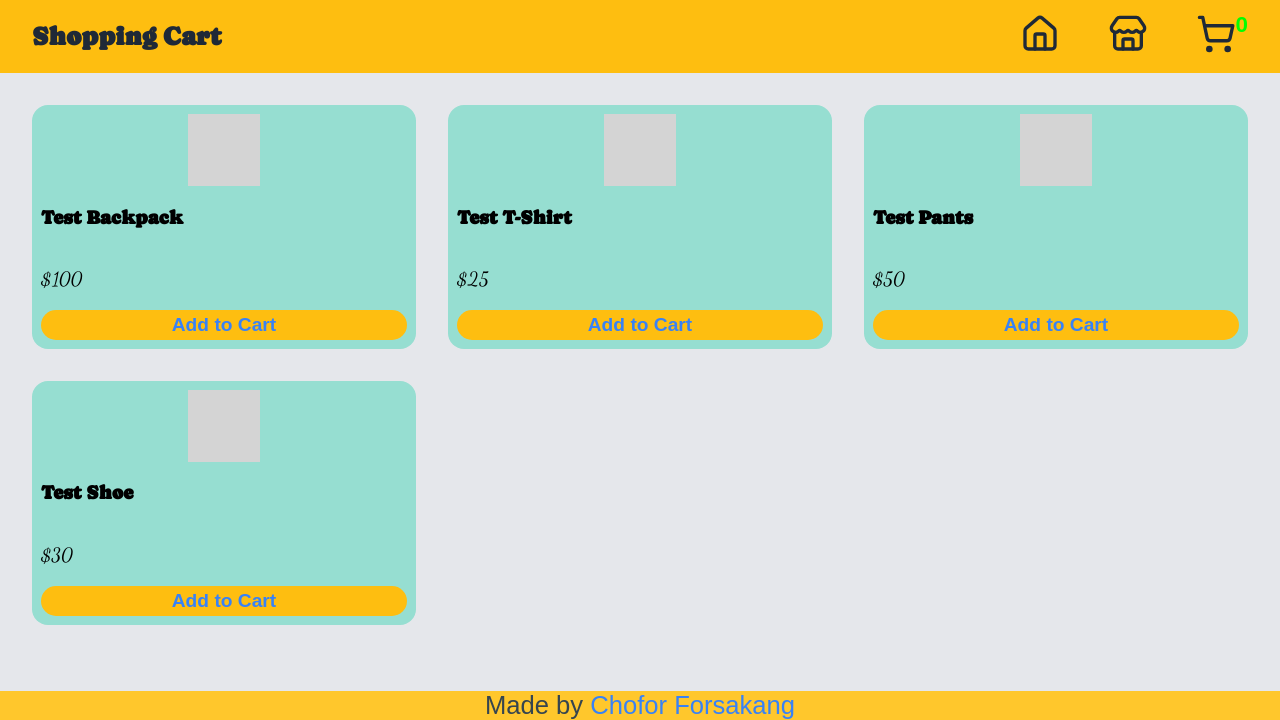
Scenario: Testing Shop page › increaseOrders: should increment cart total when add button is clicked
What coordinates should you click on to do the following:
click the button with aria-label "add test backpack to cart"
I would click on:
 (224, 325)
Its box is [41, 310, 407, 340].
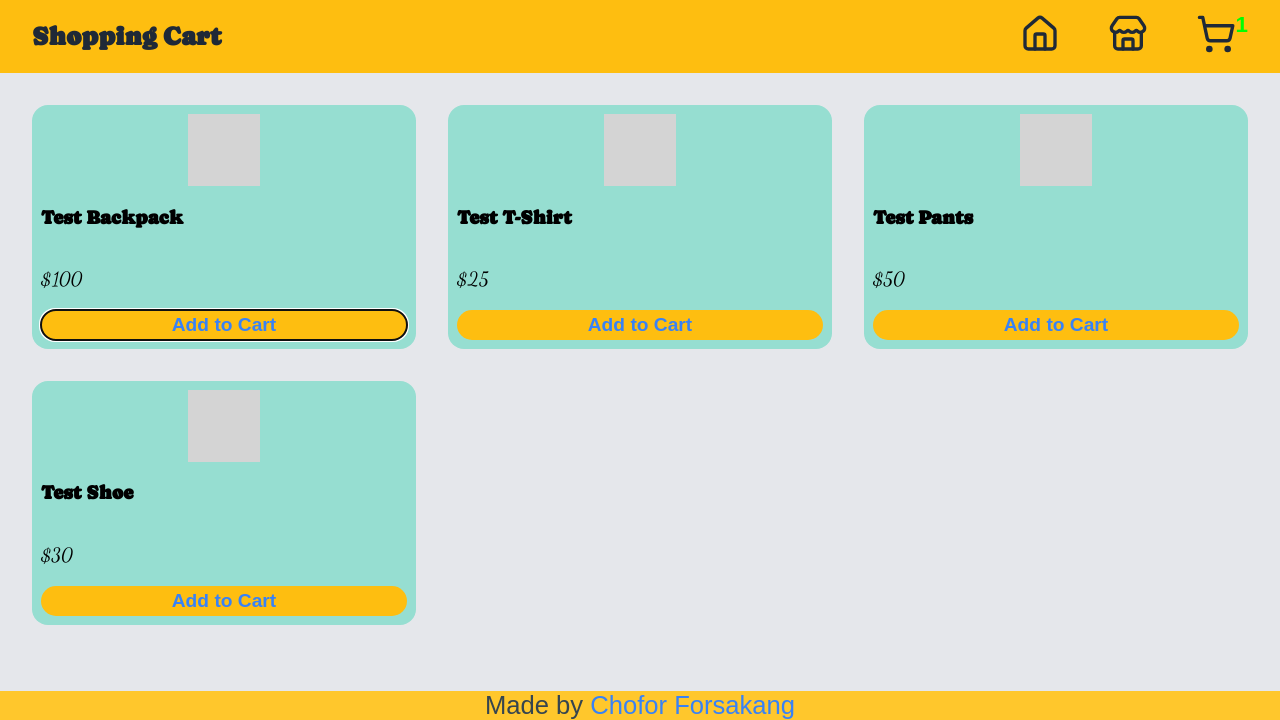
expect the text "0" reads "1": met, box [1236, 11, 1248, 36]
